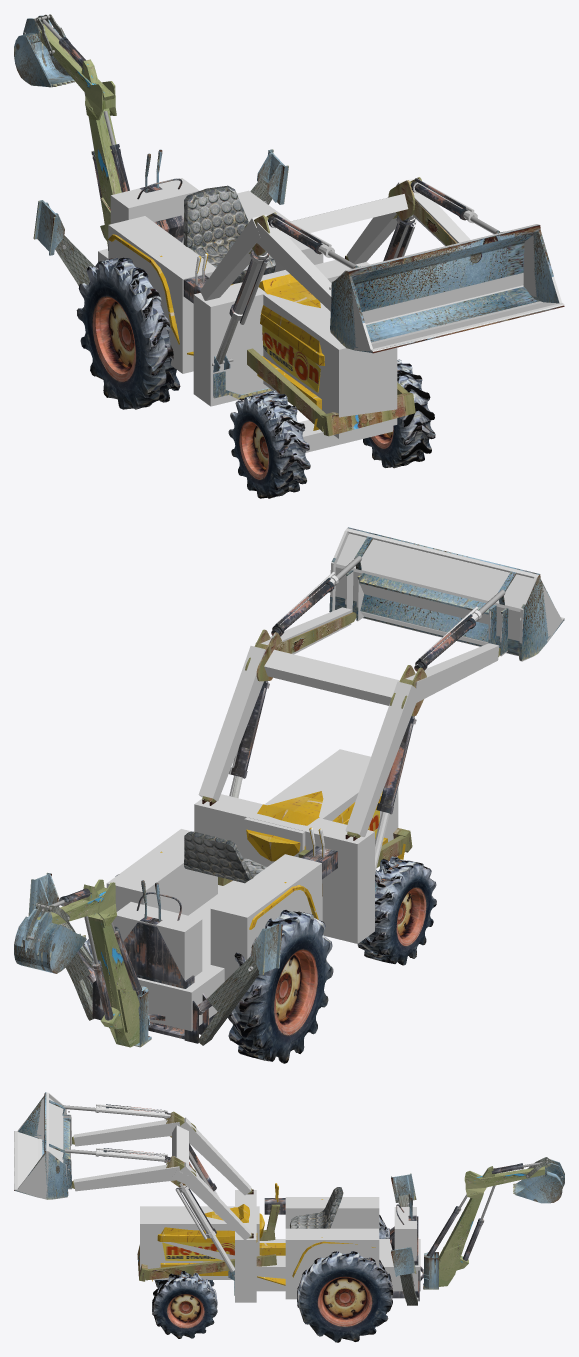
Rendered from tractor0.fbx.
3 views of the same model, one above another, from view 1: azimuth 30°, elevation 25°; view 2: azimuth 150°, elevation 25°; view 3: azimuth 270°, elevation 25° (orthographic). The views are drawn at different scales.
Parts seen in each view (by area): view 1: MainBody, frontBucket, rr_tire, hidden_Box001, fr_tire, hidden_Box002, hidden_Box004, fl_tire, hidden_convexhull_01 (×2), boom, hidden_Box006, bucket (+17 smaller); view 2: MainBody, rr_tire, hidden_Box002, hidden_convexhull_bucket_00, frontBucket, hidden_Box004, fr_tire, hidden_Box001, hidden_Box003, boom, hidden_Box005, hidden_convexhull_02 (+16 smaller); view 3: rl_tire, MainBody, fl_tire, hidden_Box003, hidden_Box001, hidden_Box004, frontBucket, boom, hidden_Box002, hidden_Box005, hidden_convexhull_00, hidden_convexhull_01 (+18 smaller).
Boxes of the visible parts, <box> form: MainBody: <box>95,149,415,436</box>; frontBucket: <box>330,225,564,353</box>; rr_tire: <box>76,257,180,409</box>; hidden_Box001: <box>262,270,397,438</box>; fr_tire: <box>228,390,310,498</box>; hidden_Box002: <box>193,257,369,406</box>; hidden_Box004: <box>108,216,215,373</box>; fl_tire: <box>363,359,435,468</box>; hidden_convexhull_01 (×2): <box>231,220,331,324</box>; boom: <box>85,81,121,245</box>; hidden_Box006: <box>110,178,199,243</box>; bucket: <box>14,15,75,87</box>; MainBody: <box>92,791,412,1043</box>; rr_tire: <box>228,910,333,1063</box>; hidden_Box002: <box>194,794,374,943</box>; hidden_convexhull_bucket_00: <box>336,529,536,611</box>; frontBucket: <box>329,527,564,660</box>; hidden_Box004: <box>210,854,321,981</box>; fr_tire: <box>357,856,436,965</box>; hidden_Box001: <box>244,749,398,868</box>; hidden_Box003: <box>106,829,217,923</box>; boom: <box>88,879,139,1047</box>; hidden_Box005: <box>100,880,322,1031</box>; hidden_convexhull_02: <box>345,681,420,836</box>; rl_tire: <box>297,1251,392,1342</box>; MainBody: <box>137,1183,419,1301</box>; fl_tire: <box>152,1271,217,1338</box>; hidden_Box003: <box>285,1228,379,1299</box>; hidden_Box001: <box>140,1206,259,1279</box>; hidden_Box004: <box>285,1197,379,1228</box>; frontBucket: <box>14,1092,72,1199</box>; boom: <box>438,1171,486,1286</box>; hidden_Box002: <box>235,1190,256,1302</box>; hidden_Box005: <box>256,1239,420,1291</box>; hidden_convexhull_00: <box>73,1164,179,1191</box>; hidden_convexhull_01: <box>73,1120,179,1146</box>.
Size of the model in its own units: 110 by 354 by 138.
Materials: 12 (11 with a texture image).
